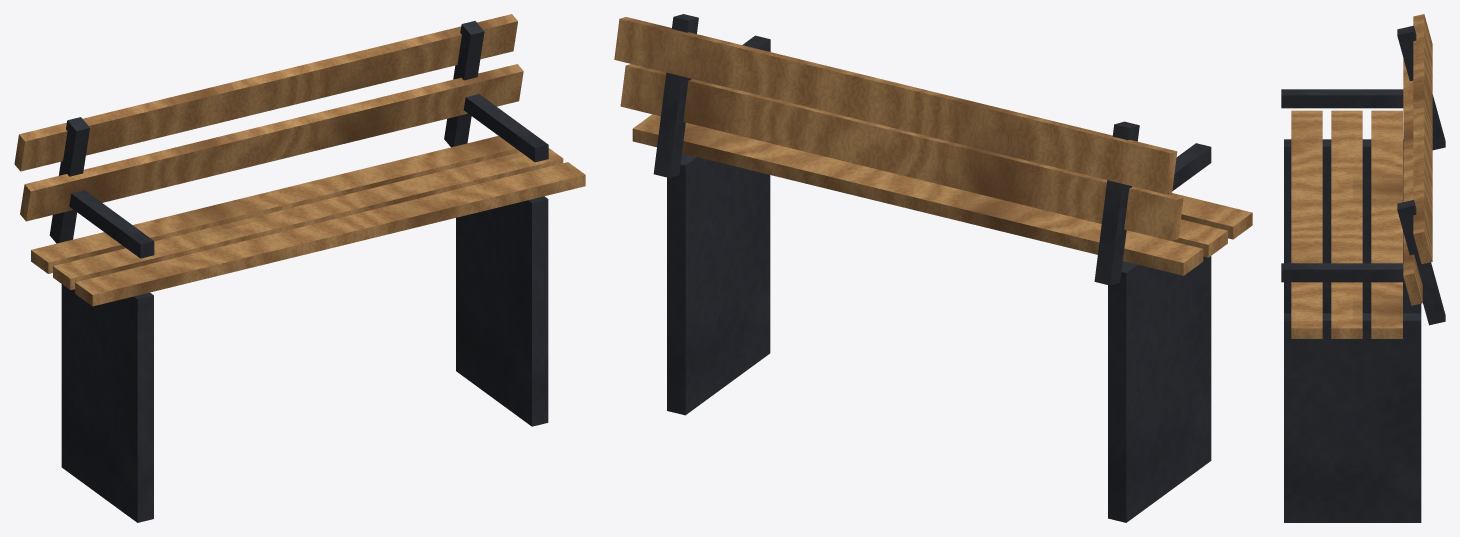
File: park_bench.glb
3 views of the same model, side by side, from view 1: azimuth 30°, elevation 25°; view 2: azimuth 150°, elevation 25°; view 3: azimuth 270°, elevation 25° (orthographic). The views are drawn at different scales.
Visible parts, largest first — view 1: Bench_wood, Bench_iron; view 2: Bench_wood, Bench_iron; view 3: Bench_iron, Bench_wood.
Part boxes in pixels (<box>): Bench_wood: <box>14,14,585,306</box>; Bench_iron: <box>49,21,548,522</box>; Bench_wood: <box>614,17,1252,275</box>; Bench_iron: <box>653,14,1211,522</box>; Bench_iron: <box>1281,25,1445,522</box>; Bench_wood: <box>1291,14,1432,338</box>.
Bounding box in the file's own units: 1.8 × 1.22 × 0.5748.
2 materials, 2 textured.
